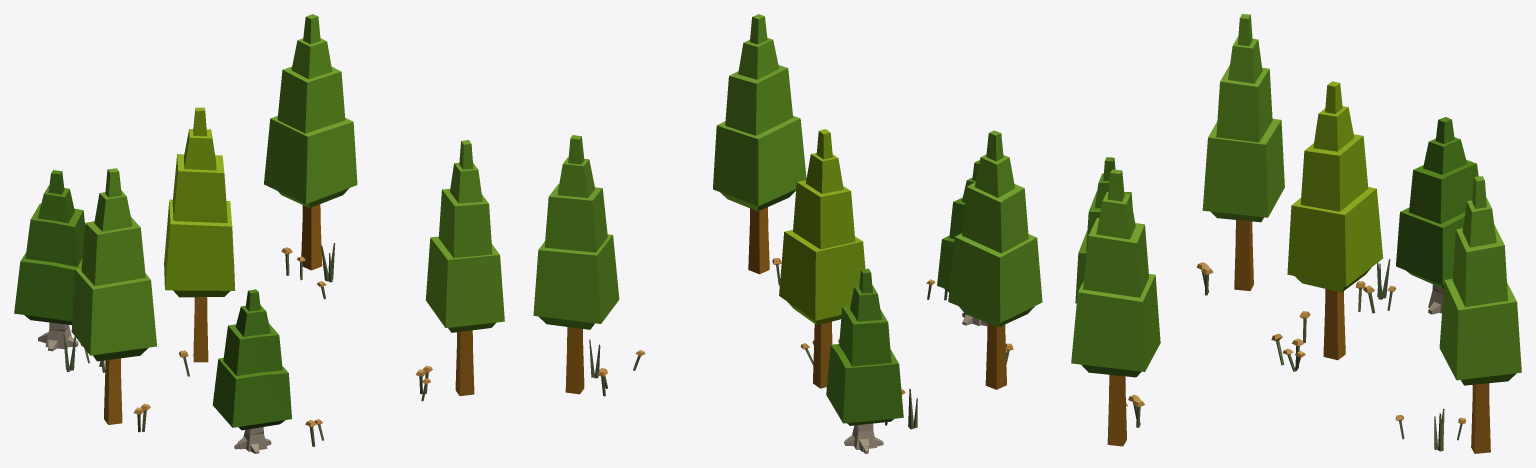
Rendered from SF_Env_Elven_Preset_04.fbx.
3 views of the same model, side by side, from view 1: azimuth 30°, elevation 25°; view 2: azimuth 150°, elevation 25°; view 3: azimuth 270°, elevation 25° (orthographic). The views are drawn at different scales.
Parts seen in each view (by area): view 1: SF_Env_Elven_Preset_04; view 2: SF_Env_Elven_Preset_04; view 3: SF_Env_Elven_Preset_04.
Boxes of the visible parts, x1,y1,x2,y2 form: SF_Env_Elven_Preset_04: (14,14,504,453); SF_Env_Elven_Preset_04: (533,14,1042,453); SF_Env_Elven_Preset_04: (1071,14,1521,453).
Size of the model in its own units: 20.05 by 12.79 by 19.18.
